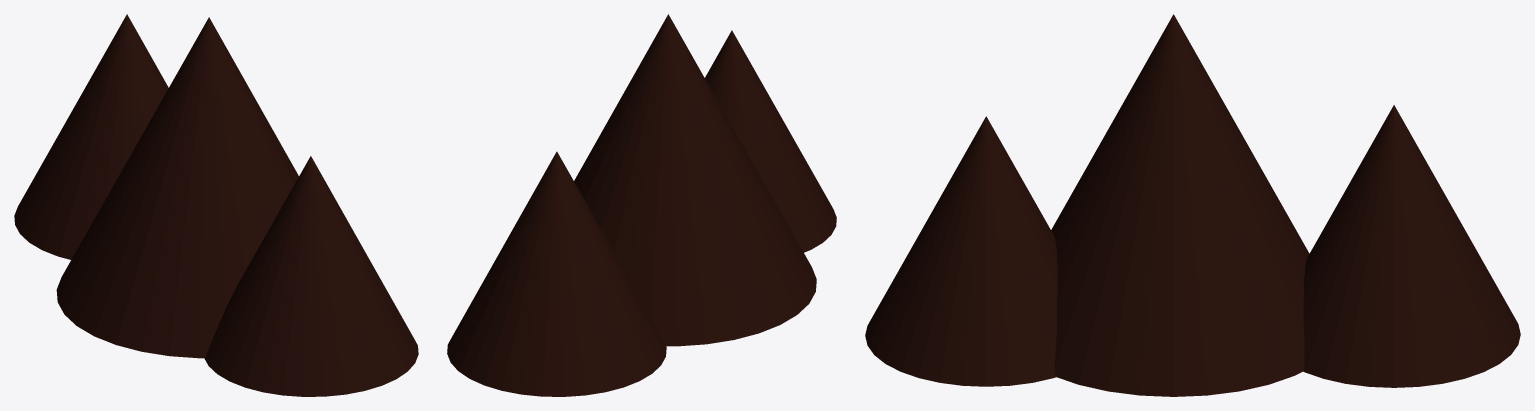
File: MountainEddie.obj
The picture shows the model from 3 angles, left to right: view 1: azimuth 30°, elevation 25°; view 2: azimuth 150°, elevation 25°; view 3: azimuth 270°, elevation 25°; orthographic projection. The views are drawn at different scales.
Parts seen in each view (by area): view 1: Cone.001, Cone.000_Cone.003, Cone.002_Cone.004; view 2: Cone.001, Cone.002_Cone.004, Cone.000_Cone.003; view 3: Cone.001, Cone.002_Cone.004, Cone.000_Cone.003.
Part boxes in pixels (left/top/right/bottom): Cone.001: left=56, top=17, right=298, bottom=358; Cone.000_Cone.003: left=204, top=156, right=418, bottom=396; Cone.002_Cone.004: left=14, top=14, right=168, bottom=259; Cone.001: left=574, top=14, right=816, bottom=346; Cone.002_Cone.004: left=447, top=151, right=666, bottom=396; Cone.000_Cone.003: left=705, top=30, right=836, bottom=252; Cone.001: left=1051, top=14, right=1309, bottom=396; Cone.002_Cone.004: left=1303, top=105, right=1520, bottom=387; Cone.000_Cone.003: left=865, top=116, right=1057, bottom=386.
Size of the model in its own units: 6.89 by 6.91 by 13.18.
